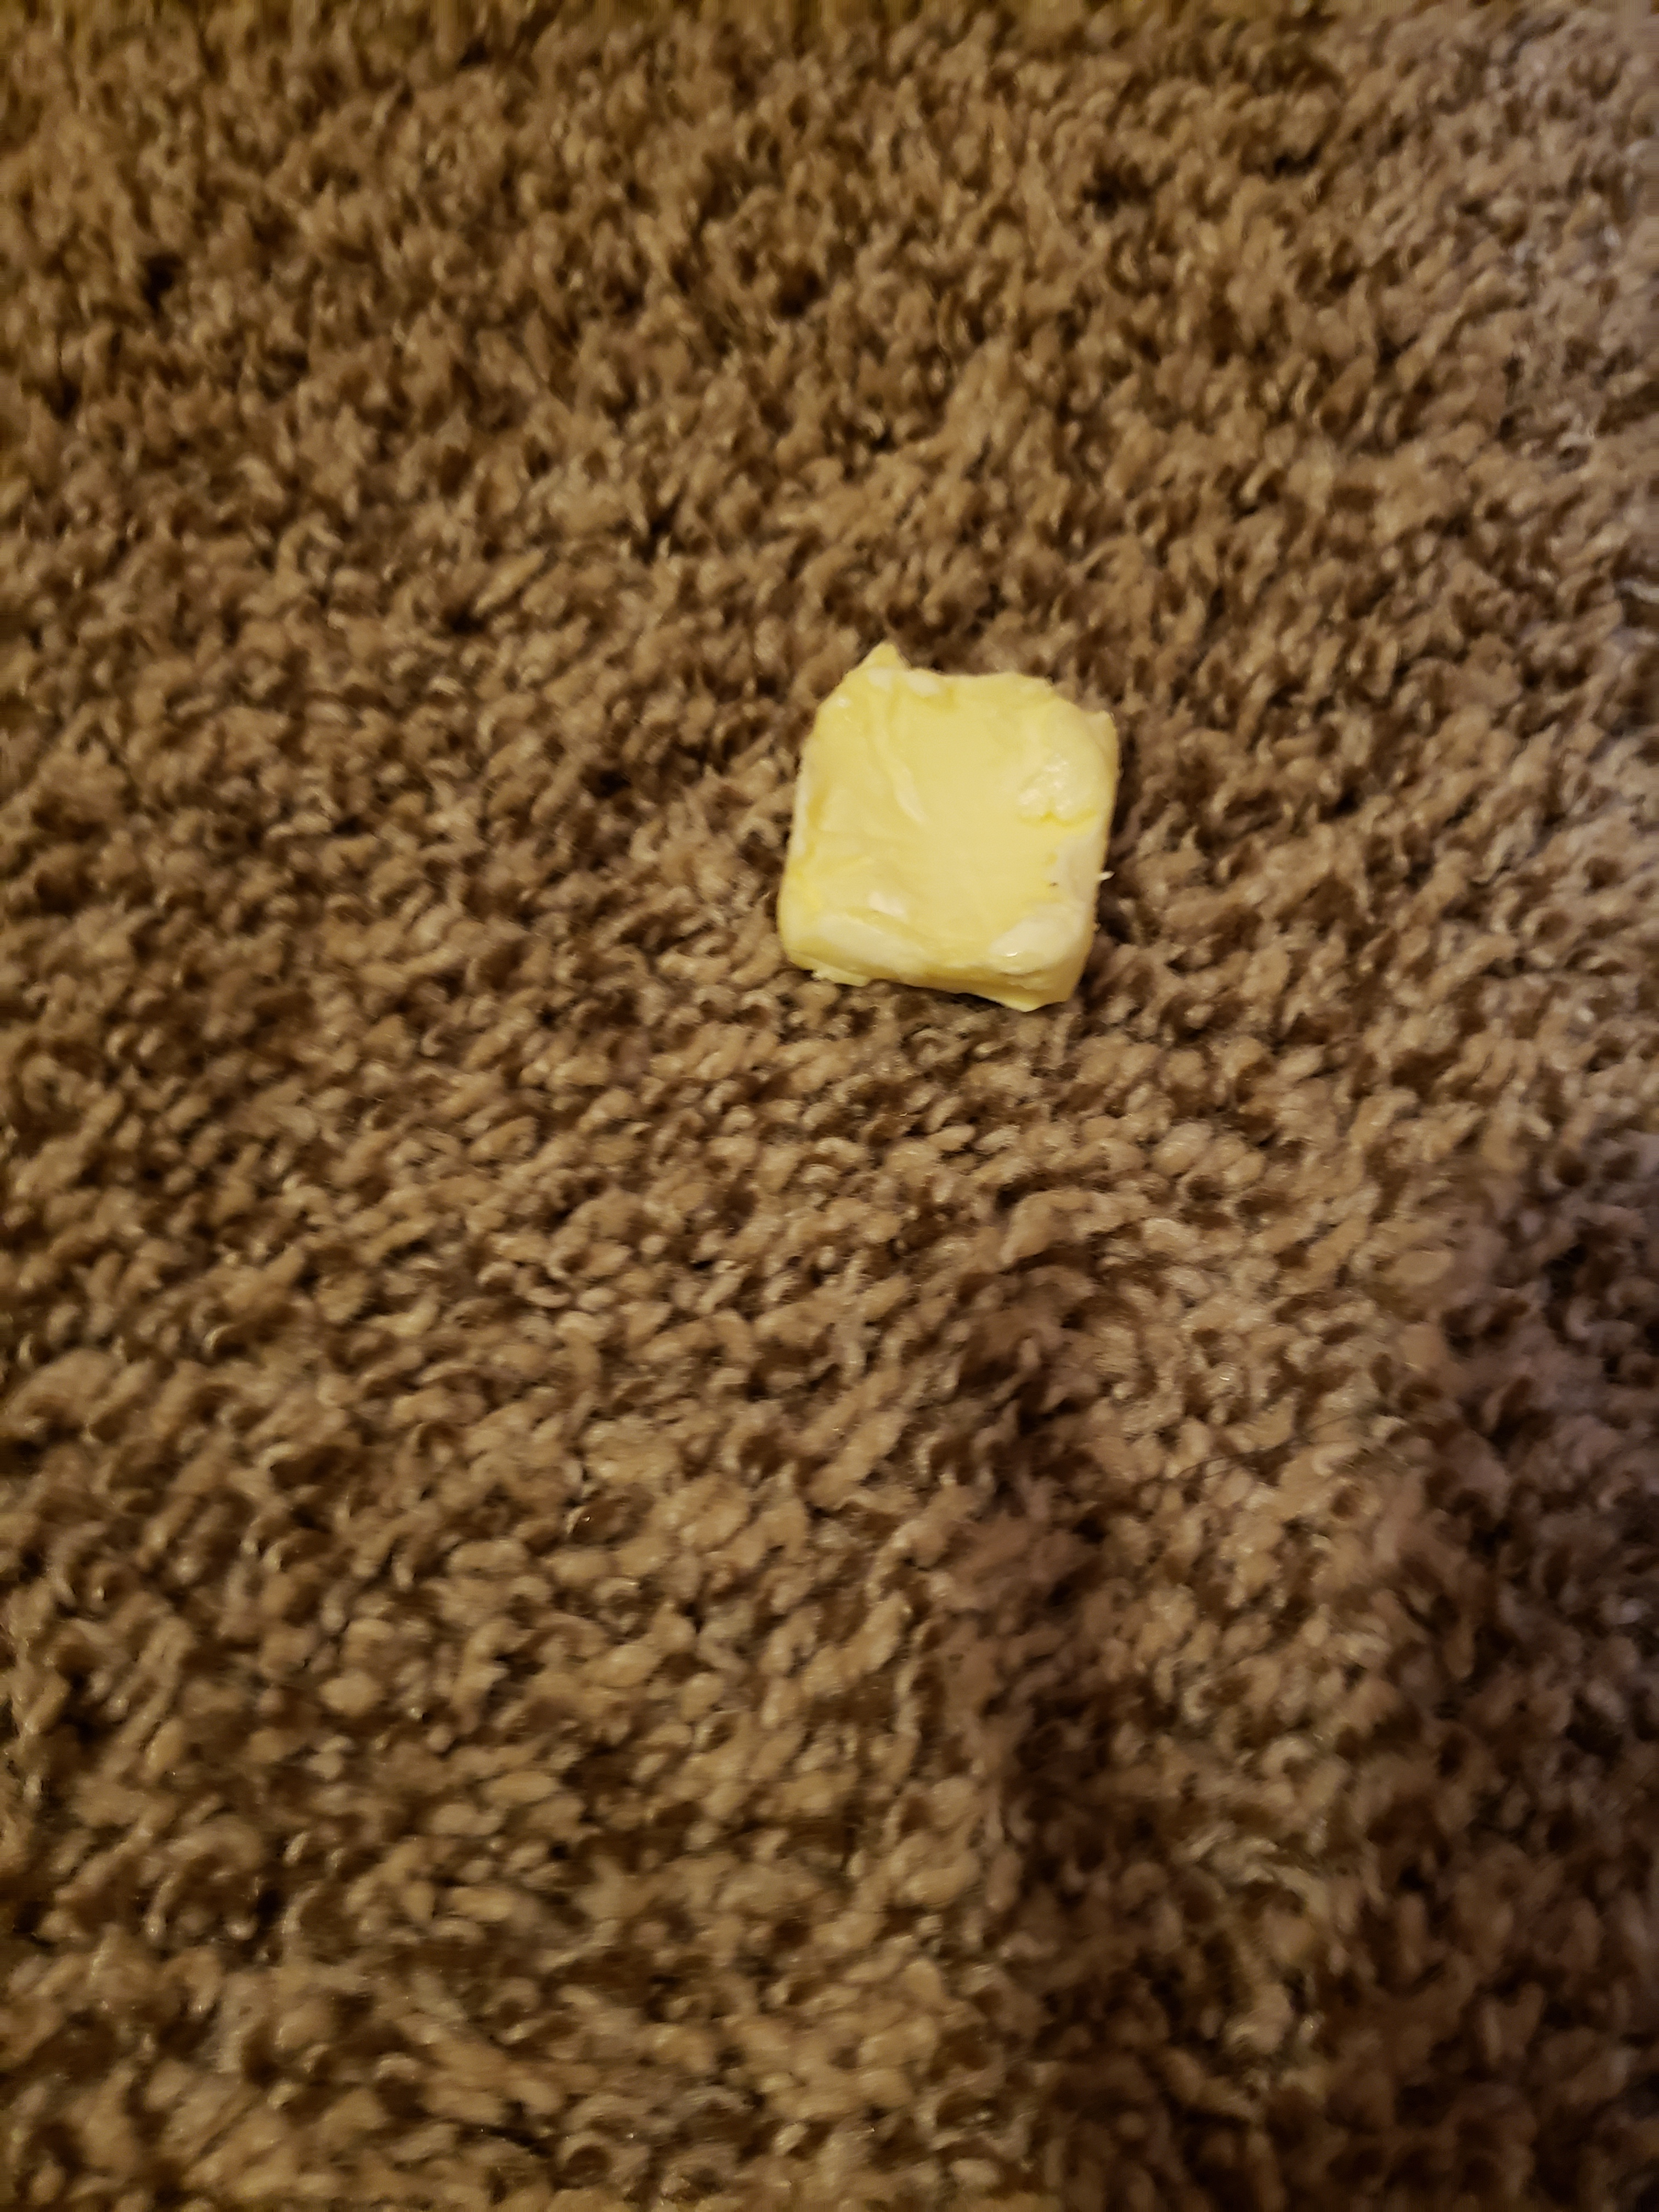Butter: (782, 660, 1114, 1008)
